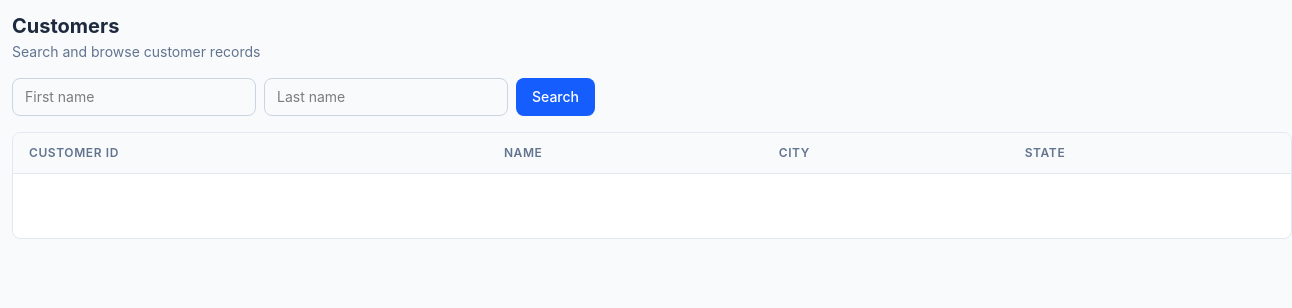
CustomersPage › retry button re-fetches data
Click the button "Search".
click(556, 97)  # box [516,78,595,116]
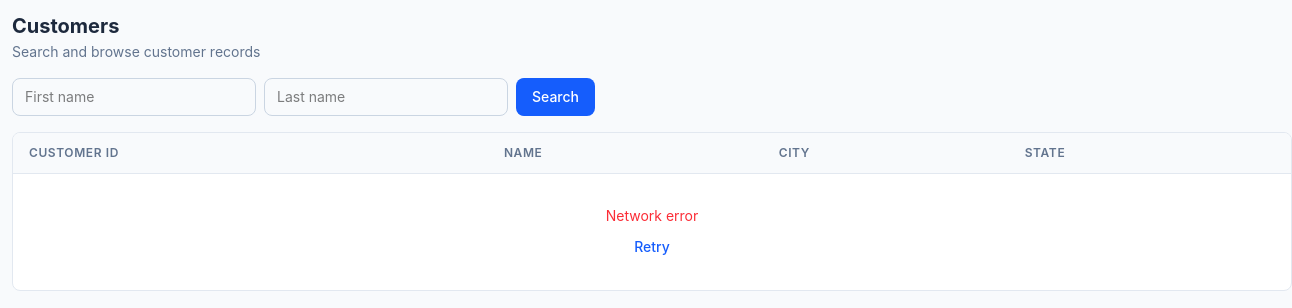
expect the text "Network error" is shown: met, box [606,207,698,224]
Click the button "Retry".
click(652, 247)  # box [634,237,670,257]
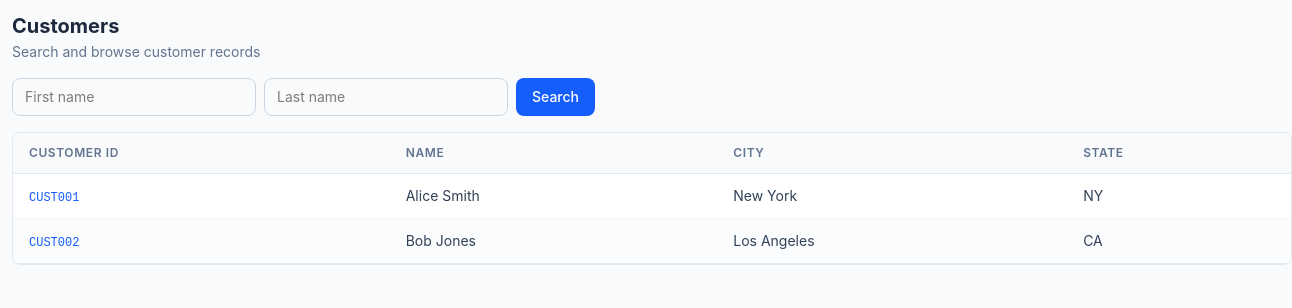
expect the button "CUST001" is shown: met, box [29,190,79,206]
